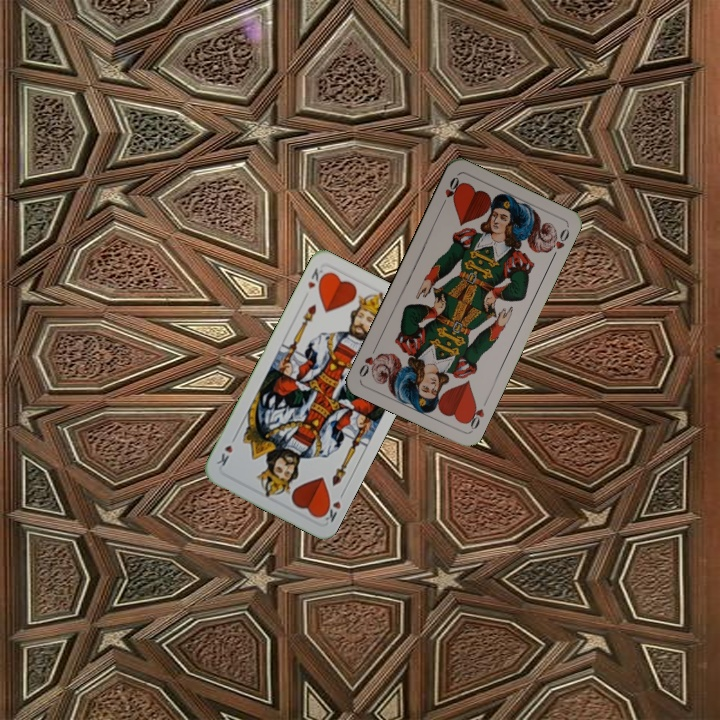HK: (317, 495, 343, 525), (303, 264, 329, 291)
HO: (462, 395, 490, 433), (437, 173, 463, 210)
